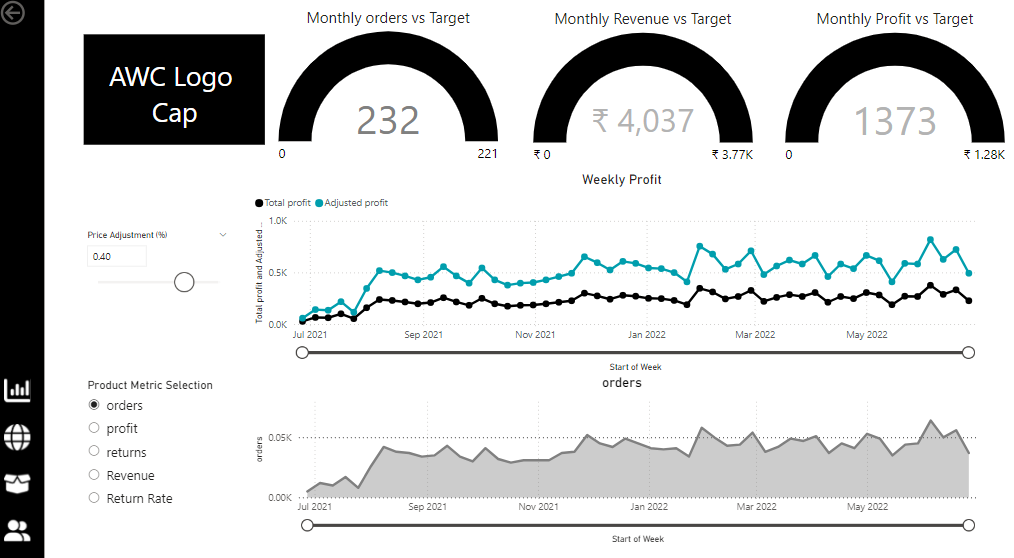

The page's visual inventory and layout, read from the dashboard file:
{"tool":"powerbi","page":{"name":"Product Details","canvas":[1280,720],"ordinal":2},"visuals":[{"type":"shape","box":[0,0,60,720],"z":0},{"type":"actionButton","box":[5.3,472.2,52.2,41.1],"z":1000,"group":"g1"},{"type":"gauge","title":"Monthly orders vs Target","fields":{"Y":["Measures  Table.Total orders"],"MaxValue":["Measures  Table.Order Target"]},"box":[346.7,12.2,284.4,205.6],"z":1000},{"type":"gauge","title":"Monthly Revenue vs Target","fields":{"Y":["Measures  Table.Total Revenue"],"MaxValue":["Measures  Table.Revenue Target"]},"box":[665.6,13.3,284.4,205.6],"z":2000},{"type":"actionButton","box":[5.3,530.7,52.2,41.1],"z":2000,"group":"g1"},{"type":"gauge","title":"Monthly Profit vs Target","fields":{"Y":["Measures  Table.Total profit"],"MaxValue":["Measures  Table.Profit Target"]},"box":[980,13.3,284.4,205.6],"z":3000},{"type":"actionButton","box":[5.3,589.2,52.2,41.1],"z":3000,"group":"g1"},{"type":"actionButton","box":[5.3,647.8,52.2,41.1],"z":4000,"group":"g1"},{"type":"lineChart","title":"Weekly Profit","fields":{"Category":["Calendar Lookup.Date Hierarchy.Start of Year","Calendar Lookup.Date Hierarchy.Start of Month","Calendar Lookup.Date Hierarchy.Start of Week","Calendar Lookup.Date Hierarchy.Date"],"Y":["Measures  Table.Total profit","Measures  Table.Adjusted profit"]},"box":[316.7,217.8,928.9,254.4],"z":4000},{"type":"areaChart","fields":{"Y":["Measures  Table.Total orders"],"Category":["Calendar Lookup.Date Hierarchy.Start of Year","Calendar Lookup.Date Hierarchy.Start of Month","Calendar Lookup.Date Hierarchy.Start of Week","Calendar Lookup.Date Hierarchy.Date"]},"box":[316.7,472.2,928.9,216.7],"z":5000},{"type":"actionButton","box":[0,0,100,40],"z":6000},{"type":"card","fields":{"Values":["Min(Product Lookup.ProductName)"]},"box":[108.9,46.7,226.7,137.8],"z":7000},{"type":"group","id":"g1","title":"Navigation Buttons","box":[5.3,472.2,52.2,216.7],"z":8000},{"type":"slicer","fields":{"Values":["Price Adjustment (%).Price Adjustment (%)"]},"box":[100,286.7,200,116.7],"z":9000},{"type":"slicer","fields":{"Values":["Product Metric Selection.Product Metric Selection"]},"box":[100,471.1,200,217.8],"z":10000}]}

Visuals, with their boxes on the page's 1280x720 design canvas (x1, y1, x2, y2). These are canvas units, not pixel positions in the 1014x558 screenshot, which may show the page scaled, cropped or inside an application window:
shape: 0 0 60 720
actionButton: 5 472 58 513
"Monthly orders vs Target" gauge: 347 12 631 218
"Monthly Revenue vs Target" gauge: 666 13 950 219
actionButton: 5 531 58 572
"Monthly Profit vs Target" gauge: 980 13 1264 219
actionButton: 5 589 58 630
actionButton: 5 648 58 689
"Weekly Profit" lineChart: 317 218 1246 472
areaChart - Measures  Table.Total orders x Calendar Lookup.Date Hierarchy.Start of Year: 317 472 1246 689
actionButton: 0 0 100 40
card - Min(Product Lookup.ProductName): 109 47 336 184
"Navigation Buttons" group: 5 472 58 689
slicer - Price Adjustment (%).Price Adjustment (%): 100 287 300 403
slicer - Product Metric Selection.Product Metric Selection: 100 471 300 689
